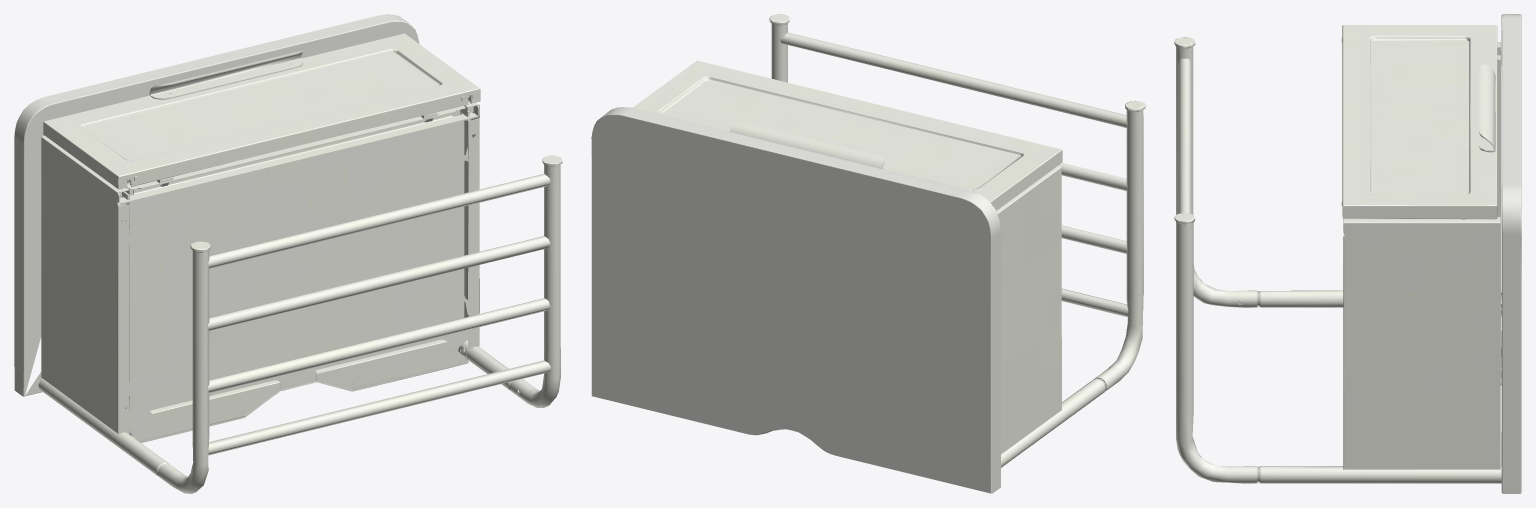
The model's file is 22 - GRÅFJÄLLET Wall-mounted bedside table - white 42x29x31 cm.glb.
The picture shows the model from 3 angles, left to right: view 1: azimuth 30°, elevation 25°; view 2: azimuth 150°, elevation 25°; view 3: azimuth 270°, elevation 25°; orthographic projection. The views are drawn at different scales.
Parts seen in each view (by area): view 1: ASY_ART_50603116_S01_NV01; view 2: ASY_ART_50603116_S01_NV01; view 3: ASY_ART_50603116_S01_NV01.
Boxes of the visible parts, <box> form: ASY_ART_50603116_S01_NV01: <box>14,14,562,493</box>; ASY_ART_50603116_S01_NV01: <box>591,14,1145,493</box>; ASY_ART_50603116_S01_NV01: <box>1174,14,1521,493</box>.
Bounding box in the file's own units: 0.42 × 0.292 × 0.3115.
Materials: 1 (1 with a texture image).
